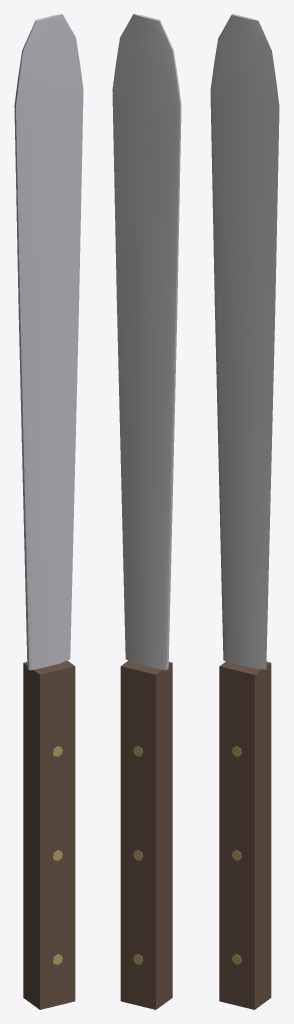
File: machete.glb
3 renders of one model, left to right at view 1: azimuth 30°, elevation 25°; view 2: azimuth 150°, elevation 25°; view 3: azimuth 330°, elevation 25°, orthographic.
Parts seen in each view (by area): view 1: OUT; view 2: OUT; view 3: OUT.
Part boxes in pixels (left/top/right/bottom): OUT: left=14, top=14, right=83, bottom=1009; OUT: left=112, top=14, right=181, bottom=1009; OUT: left=210, top=14, right=279, bottom=1009.
Size of the model in its own units: 0.0619 by 0.85 by 0.027.
